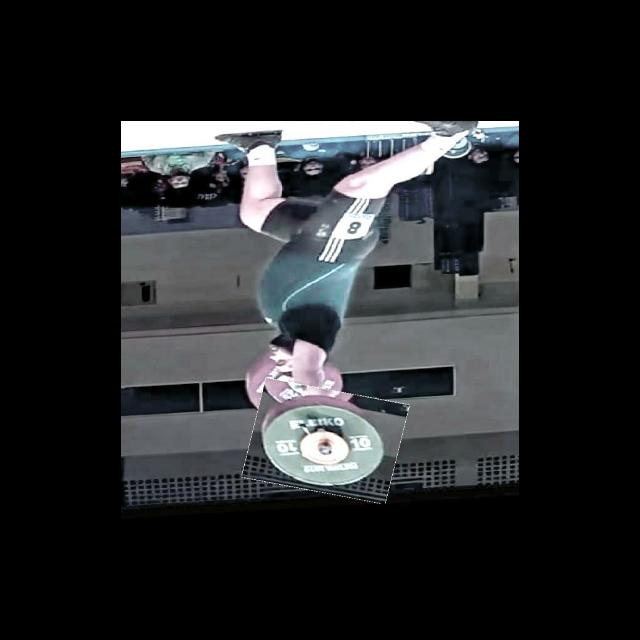barbell: (246, 382, 405, 505)
